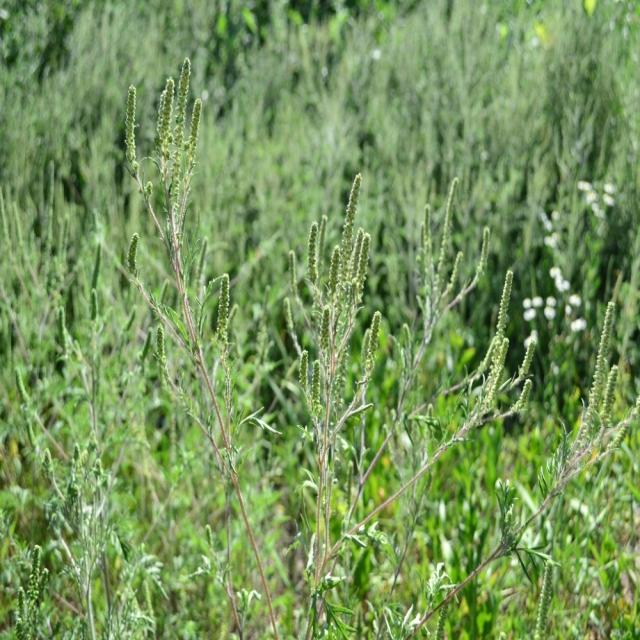ambrosia: (104, 59, 262, 404), (294, 167, 389, 532), (415, 156, 525, 444), (554, 266, 634, 541), (31, 405, 133, 600)
